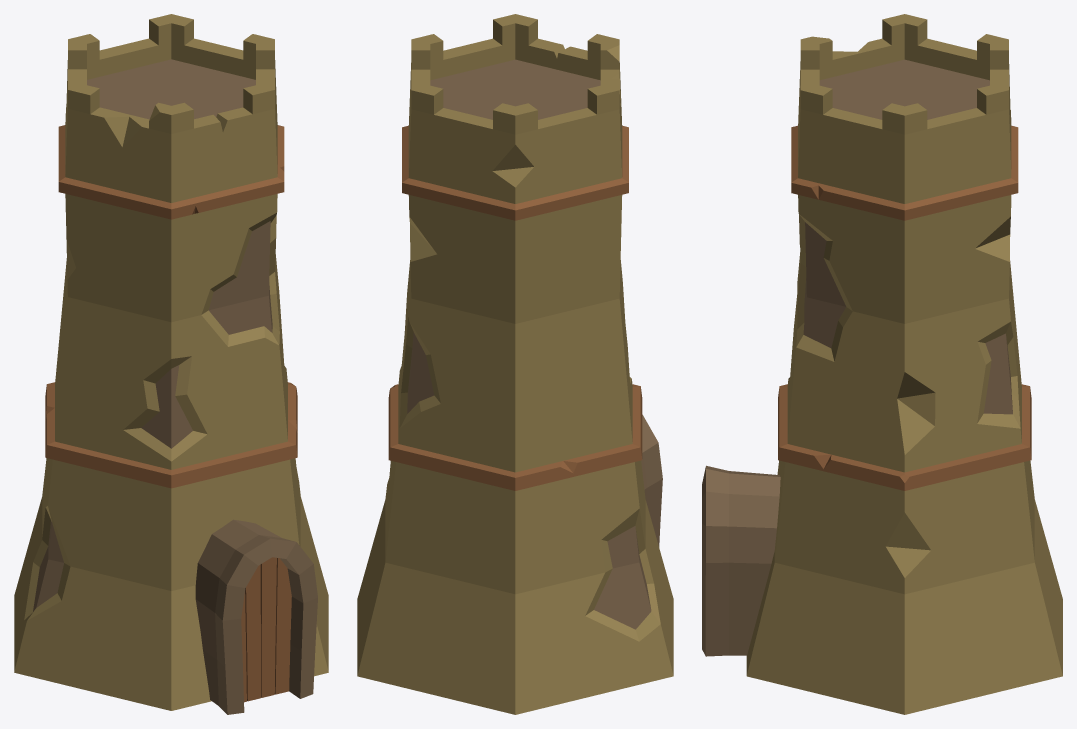
The model's file is WatchTower.fbx.
3 views of the same model, side by side, from view 1: azimuth 30°, elevation 25°; view 2: azimuth 150°, elevation 25°; view 3: azimuth 270°, elevation 25° (orthographic).
Visible parts, largest first — view 1: WatchTower; view 2: WatchTower; view 3: WatchTower.
Part boxes in pixels (left/top/right/bottom): WatchTower: left=14, top=14, right=328, bottom=714; WatchTower: left=357, top=14, right=673, bottom=714; WatchTower: left=702, top=14, right=1062, bottom=714.
Bounding box in the file's own units: 360 × 623 × 356.
